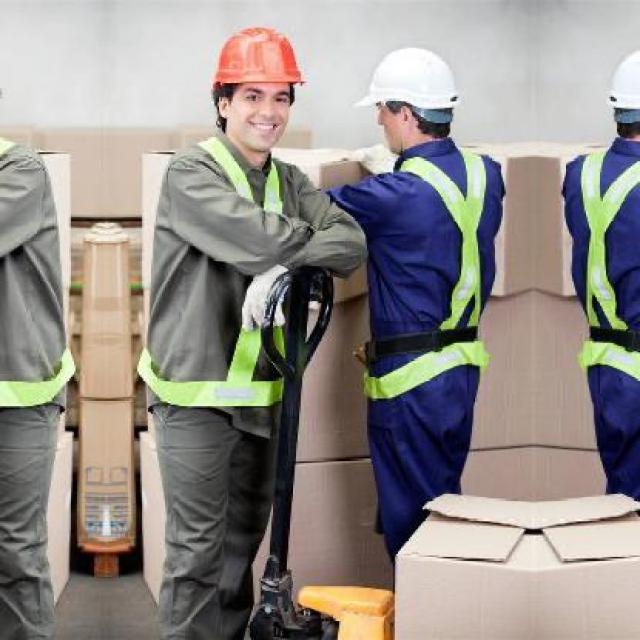Reflective-Jacket: (131, 138, 325, 420), (356, 146, 511, 403), (0, 106, 88, 420), (560, 134, 640, 392)
Safety-Helmet: (350, 38, 472, 122), (199, 18, 315, 100), (598, 40, 640, 120)
